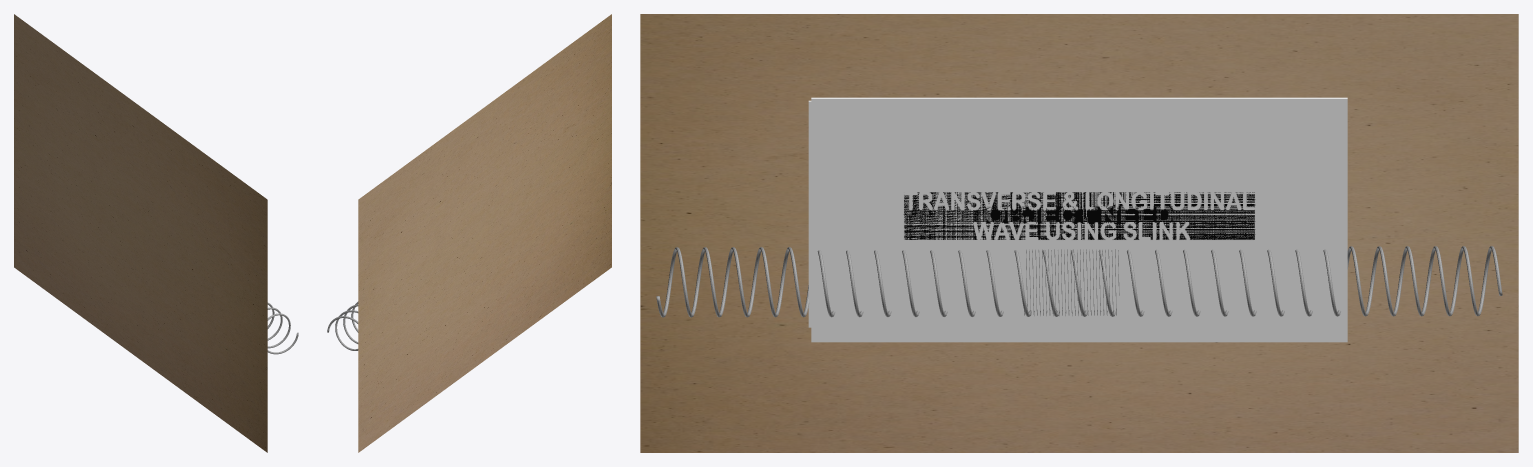
The model's file is transwave_4.fbx.
3 renders of one model, left to right at view 1: azimuth 30°, elevation 25°; view 2: azimuth 150°, elevation 25°; view 3: azimuth 270°, elevation 25°, orthographic. The views are drawn at different scales.
Visible parts, largest first — view 1: pPlane2, pHelix10; view 2: pPlane2, pHelix10; view 3: pPlane2, object, experiment1, pHelix10, pHelix1, object1.
Boxes of the visible parts, x1,y1,x2,y2 form: pPlane2: (14, 14, 267, 452); pHelix10: (267, 302, 298, 354); pPlane2: (358, 14, 611, 452); pHelix10: (327, 301, 358, 350); pPlane2: (640, 14, 1518, 452); object: (811, 97, 1347, 342); experiment1: (853, 118, 1305, 323); pHelix10: (656, 246, 1502, 317); pHelix1: (1024, 249, 1119, 315); object1: (808, 100, 811, 327).
Bounding box in the file's own units: 2.06 × 13.74 × 24.9.
Materials: 6 (4 with a texture image).
